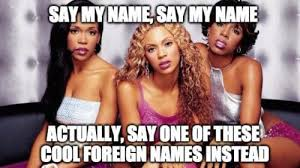middle_eastern_Female: (130, 16, 188, 79)
